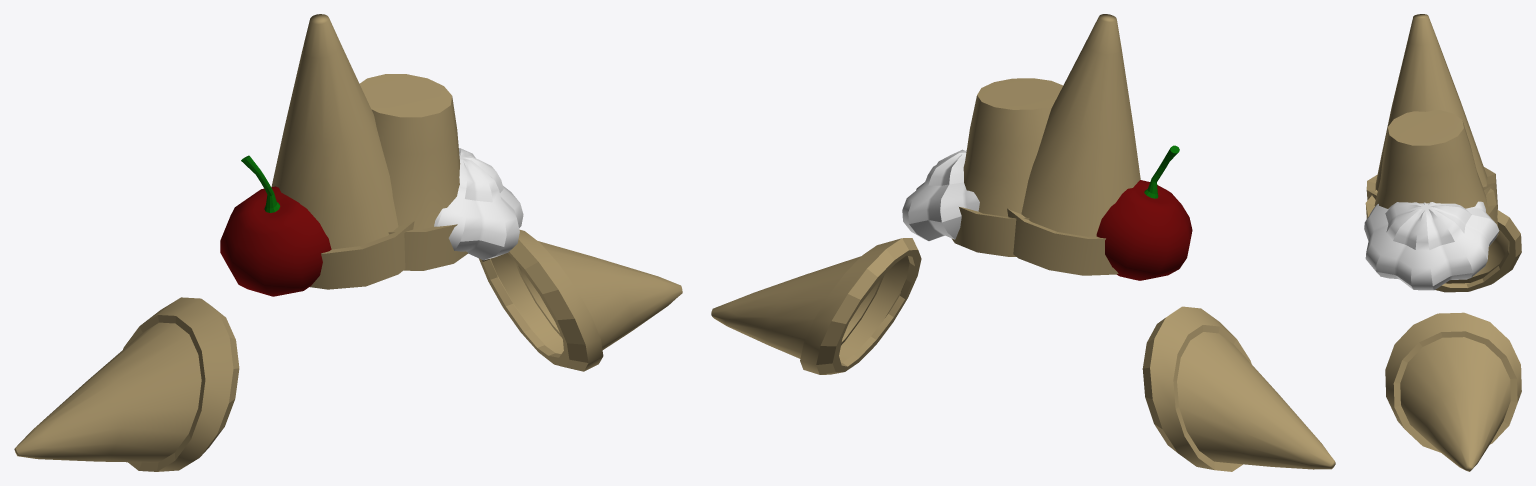
Rendered from MonsterTopsVer1.0.fbx.
3 views of the same model, side by side, from view 1: azimuth 30°, elevation 25°; view 2: azimuth 150°, elevation 25°; view 3: azimuth 270°, elevation 25° (orthographic). The views are drawn at different scales.
Parts seen in each view (by area): view 1: ConeR, ConeBig, ConeL, ConeSmall, Cherry, Merengue1; view 2: ConeBig, ConeR, ConeL, ConeSmall, Cherry, Merengue1; view 3: ConeL, Merengue1, ConeSmall, ConeBig, ConeR.
Boxes of the visible parts, x1,y1,x2,y2 form: ConeR: (14, 297, 239, 471); ConeBig: (271, 14, 414, 289); ConeL: (479, 229, 682, 371); ConeSmall: (360, 74, 467, 270); Cherry: (220, 155, 331, 296); Merengue1: (434, 148, 523, 260); ConeBig: (1007, 14, 1140, 275); ConeR: (1142, 306, 1335, 471); ConeL: (711, 238, 921, 374); ConeSmall: (951, 78, 1062, 256); Cherry: (1096, 145, 1192, 280); Merengue1: (902, 149, 979, 240); ConeL: (1385, 312, 1521, 471); Merengue1: (1364, 201, 1499, 290); ConeSmall: (1365, 110, 1498, 247); ConeBig: (1366, 14, 1497, 214); ConeR: (1435, 210, 1521, 292).
Bounding box in the file's own units: 130 × 79.4 × 34.18.
